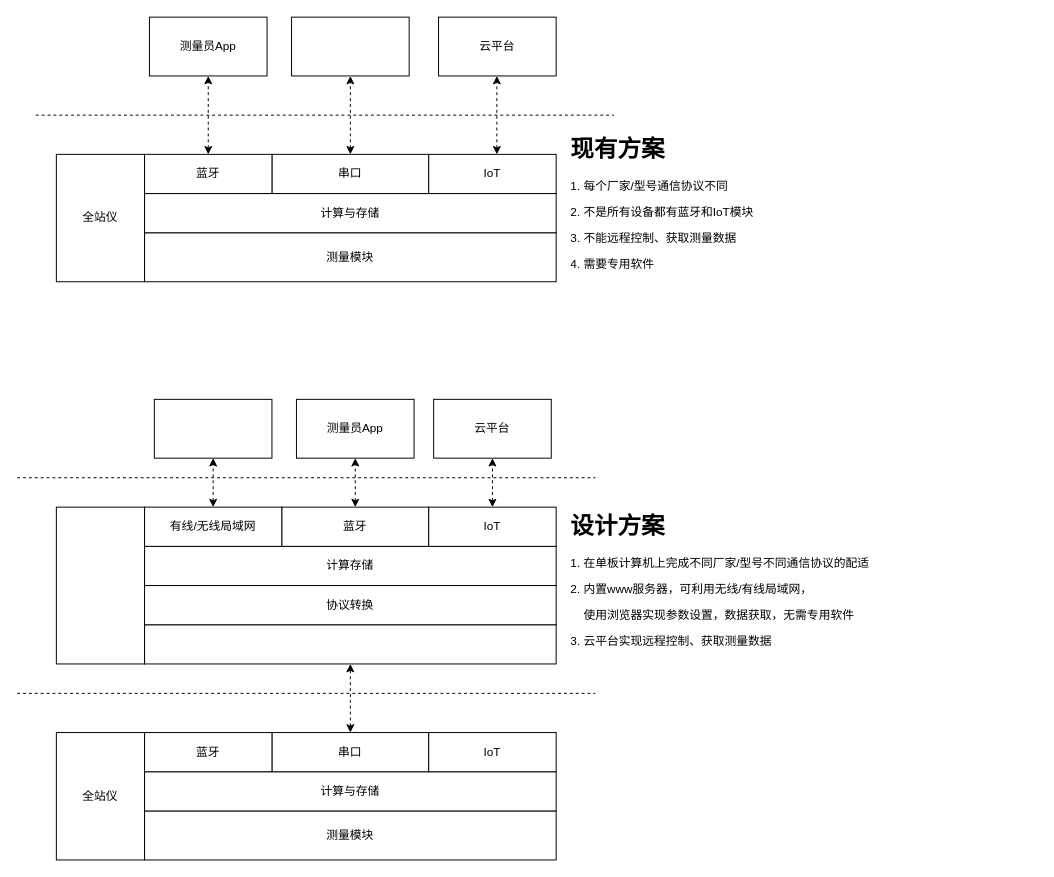
This 1054x877 diagram has some shape labels left out. The shapes that lost their labels are listed below. From the top down, each one's centre as x and y in pixels, then its label:
At pixel 350 46: "PC软件".
At pixel 212 428: "PC软件/通用浏览器".
At pixel 100 585: "单板计算机".
At pixel 350 644: "通信模块".
